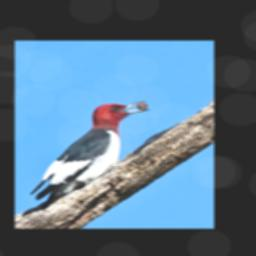Woodpecker: (28, 98, 151, 204)
